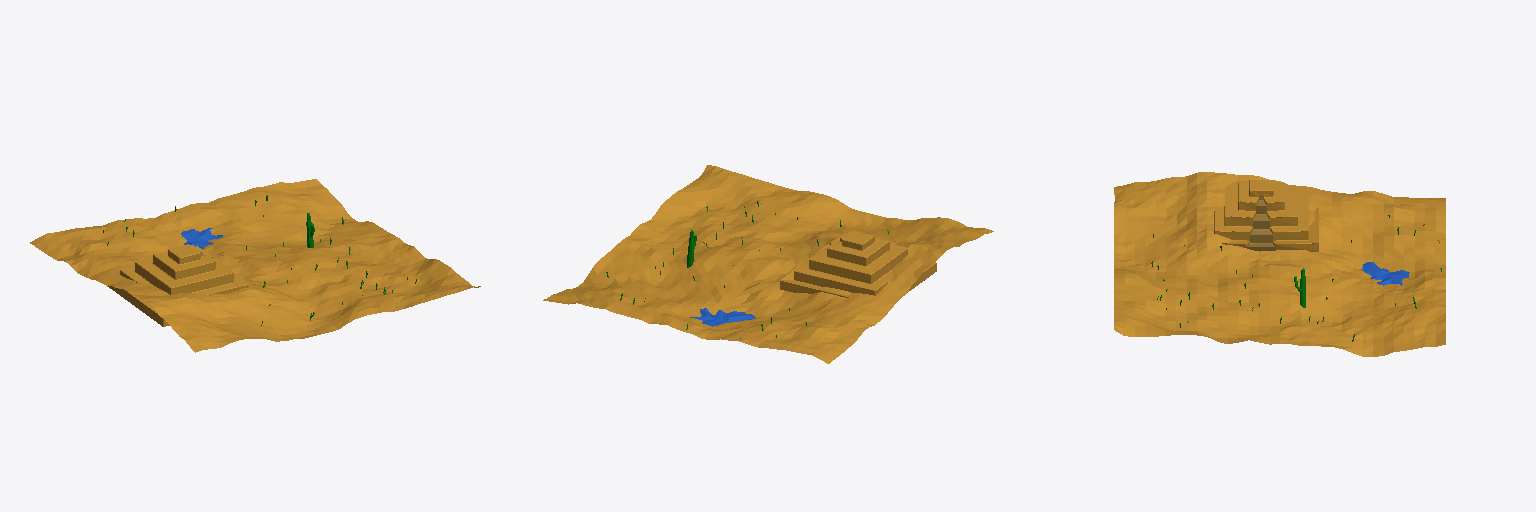
The model's file is desierto_result.obj.
The picture shows the model from 3 angles: view 1: azimuth 30°, elevation 25°; view 2: azimuth 150°, elevation 25°; view 3: azimuth 270°, elevation 25°; orthographic projection.
Visible parts, largest first — view 1: Plane, Cube; view 2: Plane, Cube, Plane.001; view 3: Plane, Cube, Plane.001.
Part boxes in pixels (x1,y1,x2,y2): Plane: (30, 179, 480, 352); Cube: (108, 244, 252, 326); Plane: (543, 165, 993, 363); Cube: (780, 231, 936, 297); Plane.001: (690, 308, 755, 326); Plane: (1114, 172, 1445, 356); Cube: (1214, 180, 1318, 251); Plane.001: (1361, 262, 1409, 285).
Bounding box in the file's own units: 64.12 × 13.41 × 64.12.